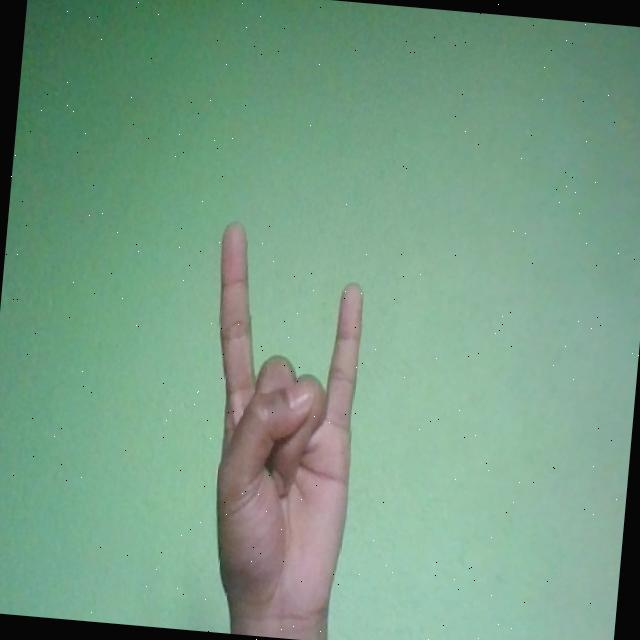open Plam: (188, 218, 372, 640)
